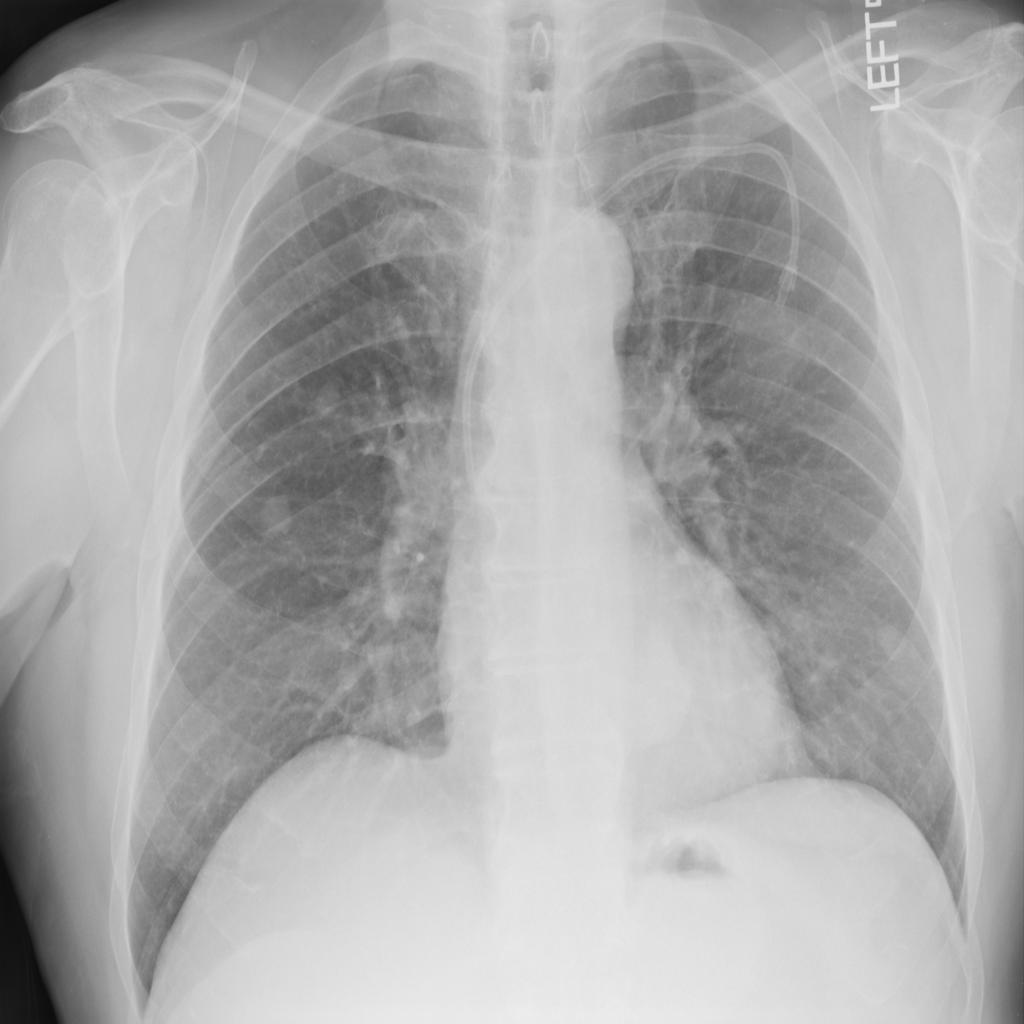nodule: (709, 328, 811, 420), (861, 601, 924, 679), (245, 477, 309, 552), (300, 363, 363, 438)
